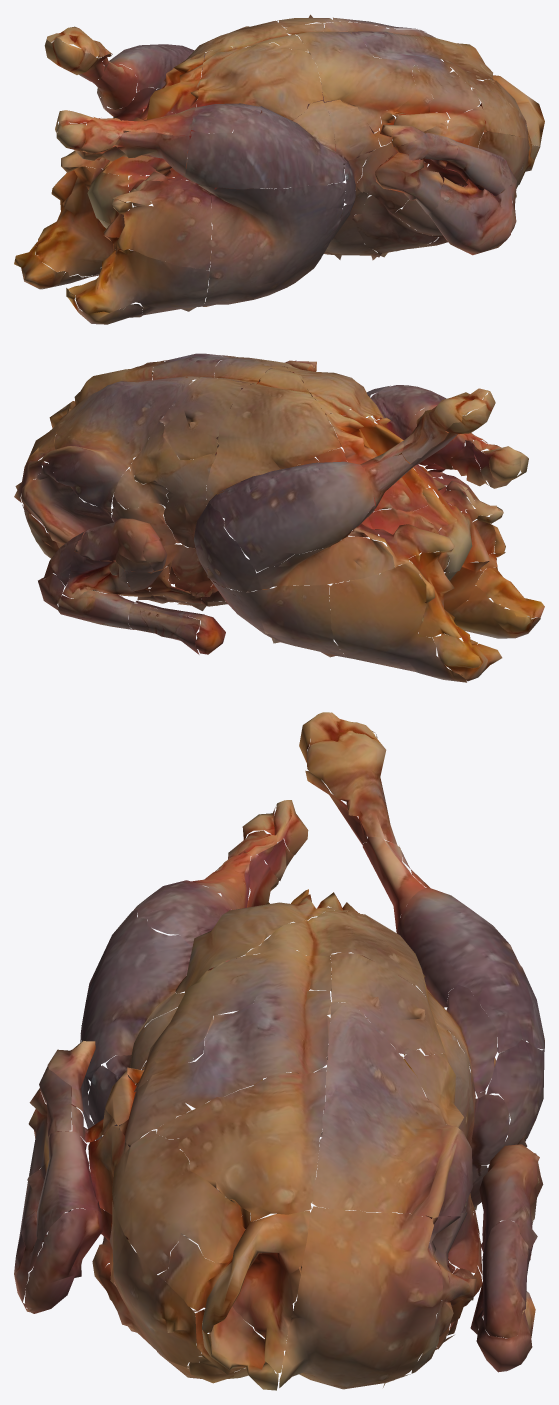
Rendered from raw_sea_bird.glb.
3 views of the same model, one above another, from view 1: azimuth 30°, elevation 25°; view 2: azimuth 150°, elevation 25°; view 3: azimuth 270°, elevation 25° (orthographic). The views are drawn at different scales.
Visible parts, largest first — view 1: tripo_node_3f534547-de67-4b42-8cb3-668f8efd7049; view 2: tripo_node_3f534547-de67-4b42-8cb3-668f8efd7049; view 3: tripo_node_3f534547-de67-4b42-8cb3-668f8efd7049.
Part boxes in pixels (box(x1,y1,x2,y2)): tripo_node_3f534547-de67-4b42-8cb3-668f8efd7049: box(14, 14, 544, 324); tripo_node_3f534547-de67-4b42-8cb3-668f8efd7049: box(14, 353, 544, 682); tripo_node_3f534547-de67-4b42-8cb3-668f8efd7049: box(14, 712, 544, 1390).
Size of the model in its own units: 1 by 0.542 by 0.6269.
Materials: 1 (1 with a texture image).
